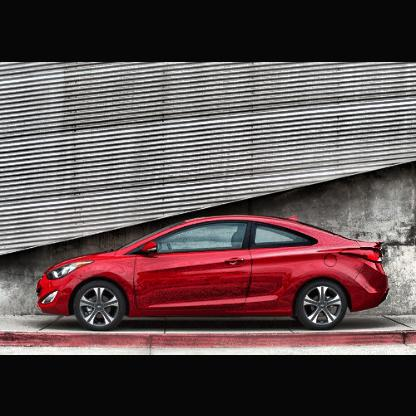Hyundai Accent Sedan 2012: (36, 213, 392, 336)
